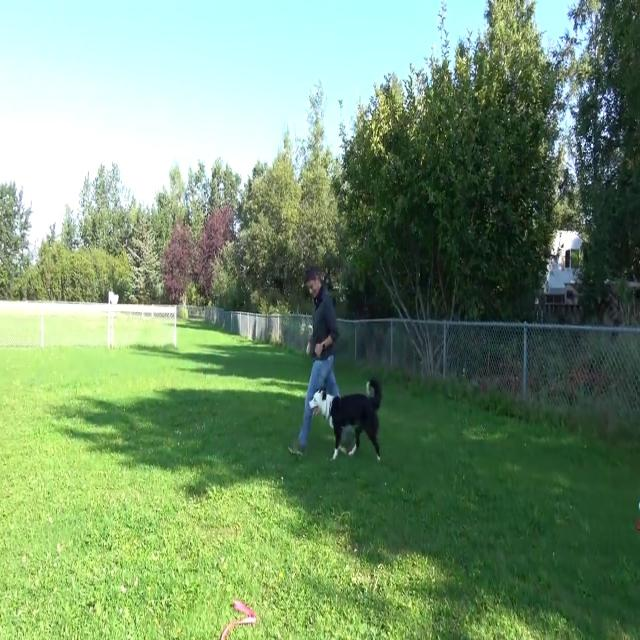Unleashed_Dog: (289, 377, 381, 458)
